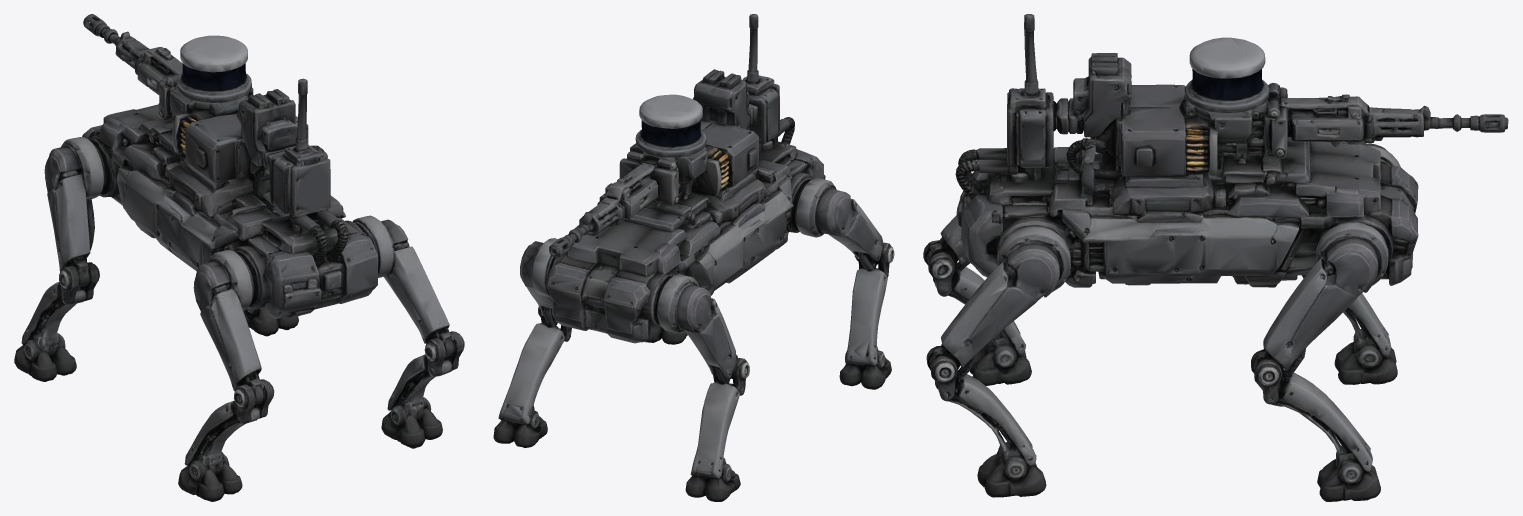
The model's file is hound.glb.
3 views of the same model, side by side, from view 1: azimuth 30°, elevation 25°; view 2: azimuth 150°, elevation 25°; view 3: azimuth 270°, elevation 25° (orthographic). The views are drawn at different scales.
Parts seen in each view (by area): view 1: tripo_node_c6b04483-a5be-4613-b525-95c5963fcaa9; view 2: tripo_node_c6b04483-a5be-4613-b525-95c5963fcaa9; view 3: tripo_node_c6b04483-a5be-4613-b525-95c5963fcaa9.
Boxes of the visible parts, x1,y1,x2,y2 form: tripo_node_c6b04483-a5be-4613-b525-95c5963fcaa9: (14, 14, 464, 501); tripo_node_c6b04483-a5be-4613-b525-95c5963fcaa9: (493, 14, 894, 501); tripo_node_c6b04483-a5be-4613-b525-95c5963fcaa9: (923, 14, 1508, 501).
Bounding box in the file's own units: 0.6164 × 0.85 × 1.08.
Materials: 1 (1 with a texture image).
